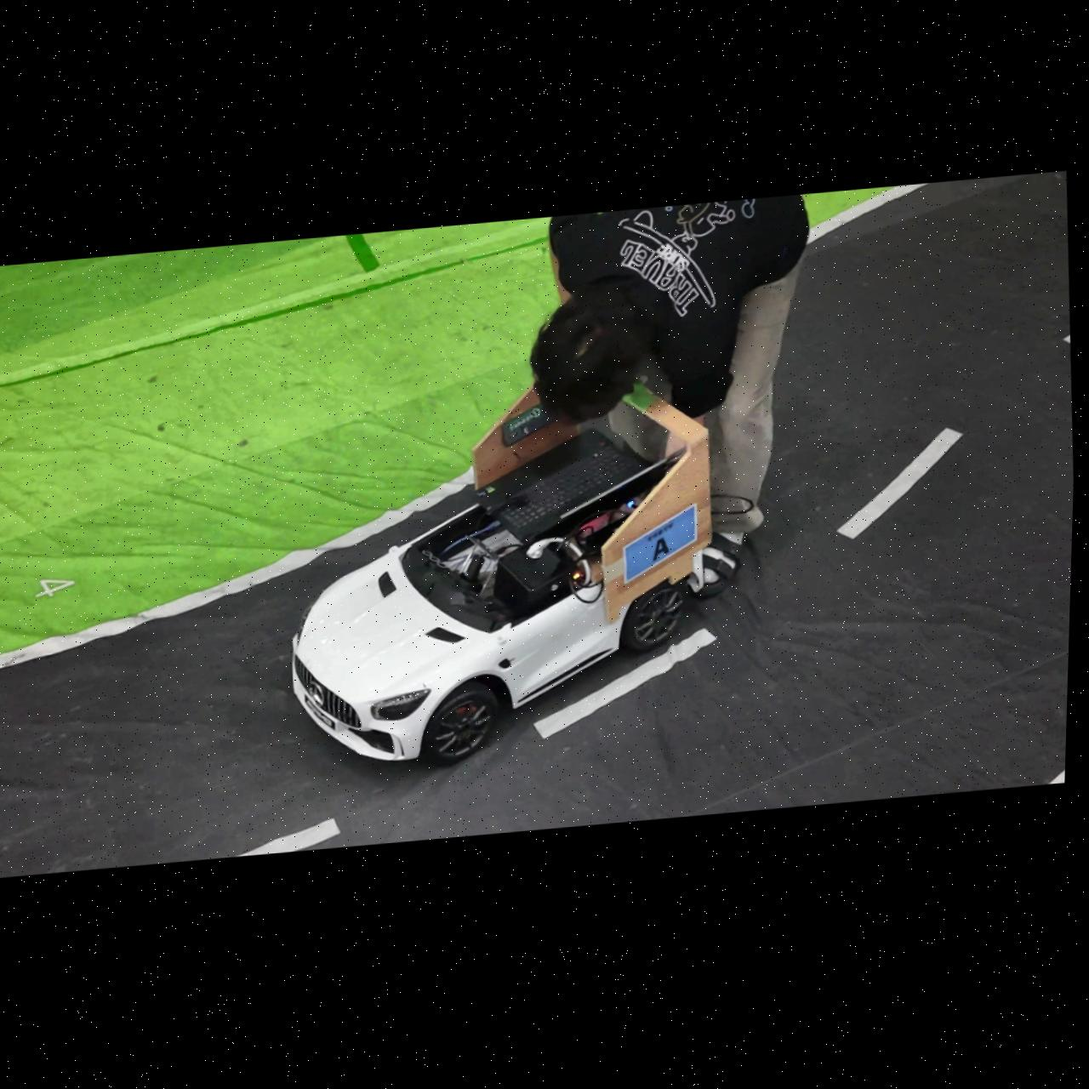broken_line: (534, 628, 715, 738), (838, 428, 961, 537), (238, 819, 339, 856)
